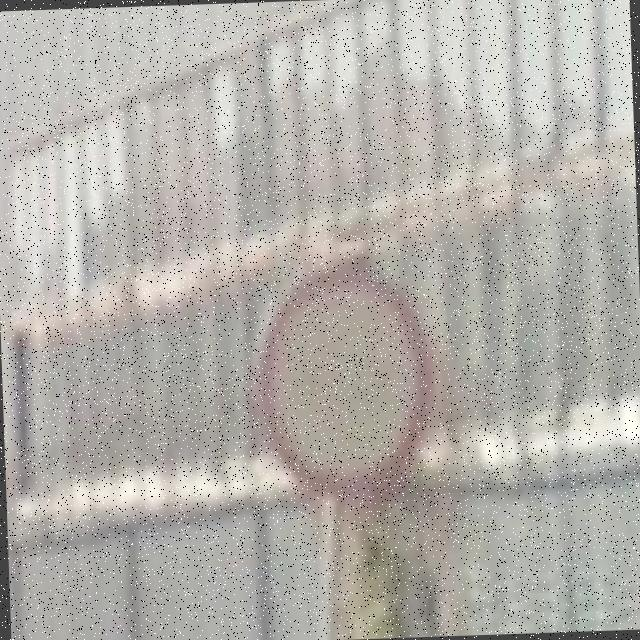Zakaz ruchu w obu kierunkach: (250, 261, 434, 502)
